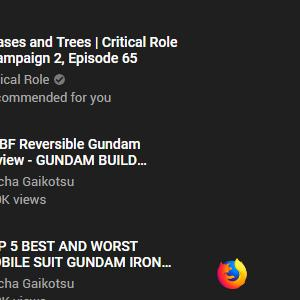firefox: (216, 257, 248, 290)
